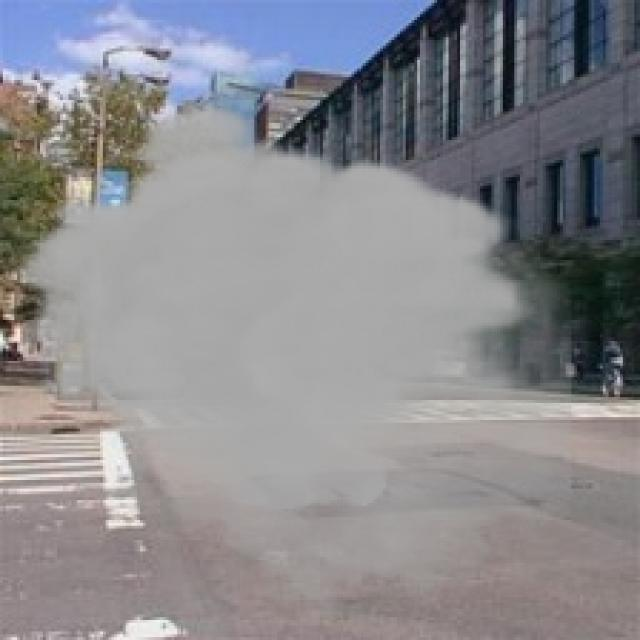smoke: (11, 100, 572, 623)
